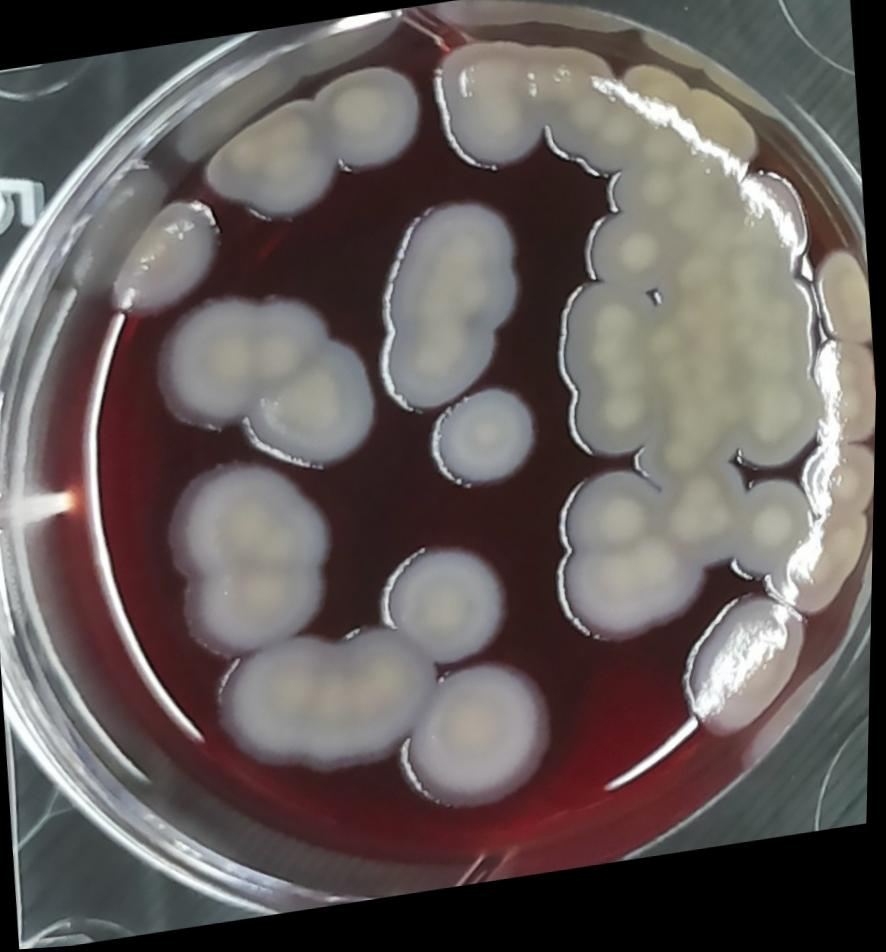bcereus: (203, 613, 449, 797), (355, 191, 541, 429), (161, 451, 345, 669), (391, 654, 574, 833), (664, 591, 824, 760), (240, 334, 398, 488), (187, 91, 345, 242), (375, 533, 524, 688), (144, 286, 275, 451), (92, 189, 237, 336), (546, 535, 711, 664), (428, 34, 549, 190), (301, 50, 430, 194), (417, 381, 546, 517), (712, 369, 837, 499), (650, 463, 768, 593), (550, 463, 673, 581), (711, 163, 823, 292), (549, 272, 658, 403), (706, 479, 821, 602), (237, 283, 349, 406), (570, 201, 686, 315), (556, 371, 668, 477), (803, 342, 879, 463)
